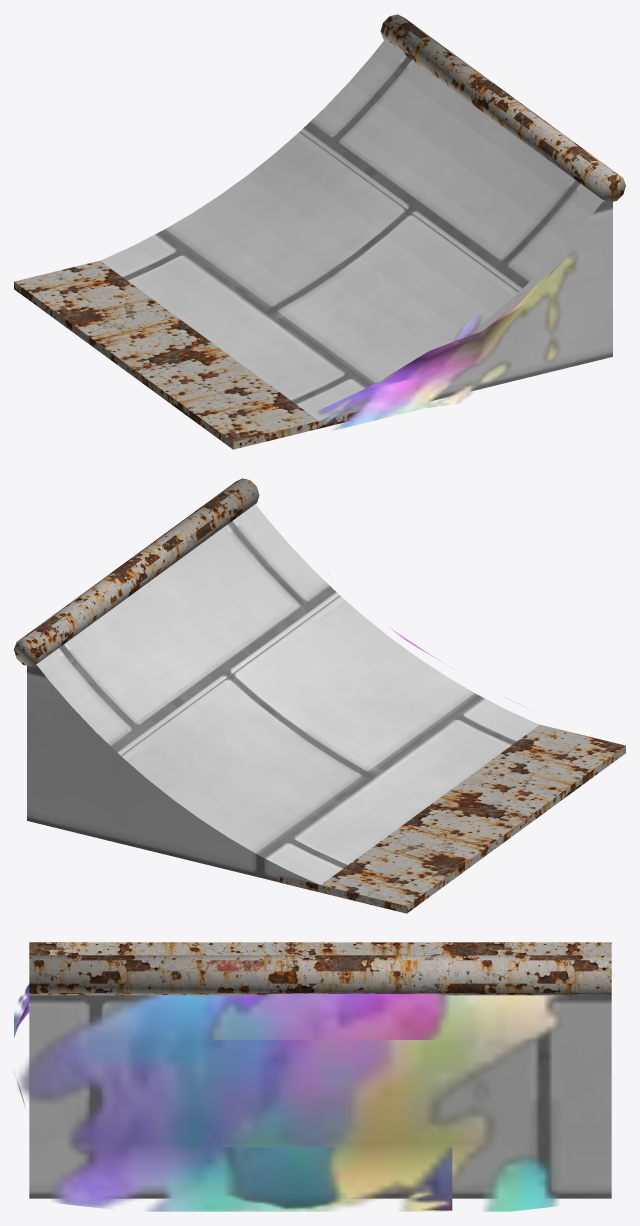
The model's file is Plat_Kicker.glb.
3 renders of one model, top to bottom at view 1: azimuth 30°, elevation 25°; view 2: azimuth 150°, elevation 25°; view 3: azimuth 270°, elevation 25°, orthographic. The views are drawn at different scales.
Parts seen in each view (by area): view 1: Plat_Kicker_Body, Plat_Kicker_Lip, Plat_Kicker_Paint; view 2: Plat_Kicker_Body, Plat_Kicker_Lip; view 3: Plat_Kicker_Paint, Plat_Kicker_Body, Plat_Kicker_Lip.
Part boxes in pixels (box(x1,y1,x2,y2)): Plat_Kicker_Body: box(100, 40, 612, 420); Plat_Kicker_Lip: box(14, 14, 625, 449); Plat_Kicker_Paint: box(318, 227, 590, 430); Plat_Kicker_Body: box(27, 504, 539, 884); Plat_Kicker_Lip: box(14, 478, 625, 913); Plat_Kicker_Paint: box(14, 984, 565, 1211); Plat_Kicker_Body: box(29, 995, 611, 1198); Plat_Kicker_Lip: box(29, 942, 611, 995).
Bounding box in the file's own units: 1.35 × 0.6267 × 1.37.
3 materials, 3 textured.
